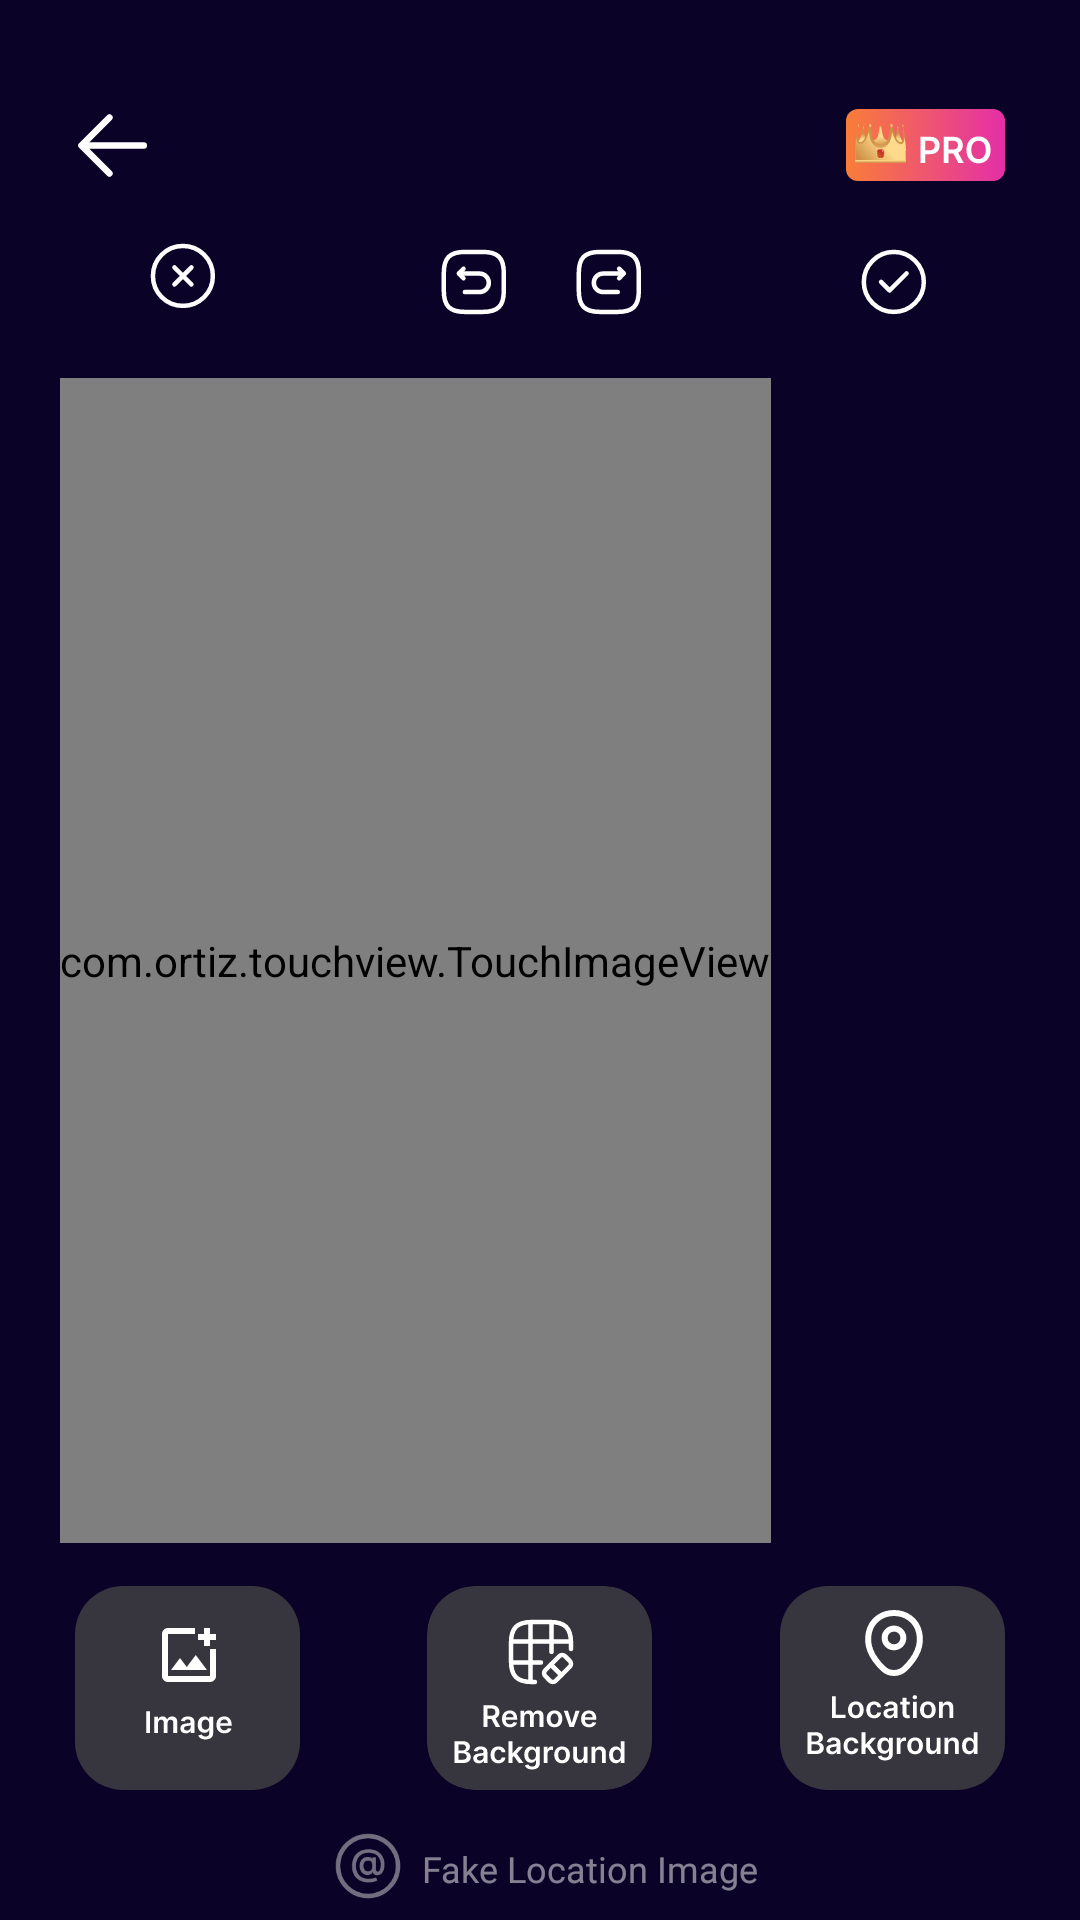

Named icons in this screenshot (1080×1920) and their bounding boxes, (x1, y1, x2, y2):
add: (75, 1586, 300, 1790)
back: (78, 114, 147, 177)
exit: (150, 243, 215, 308)
next step: (576, 249, 641, 315)
premium: (846, 109, 1005, 181)
previous: (441, 249, 506, 315)
tickcircle: (861, 249, 926, 315)
